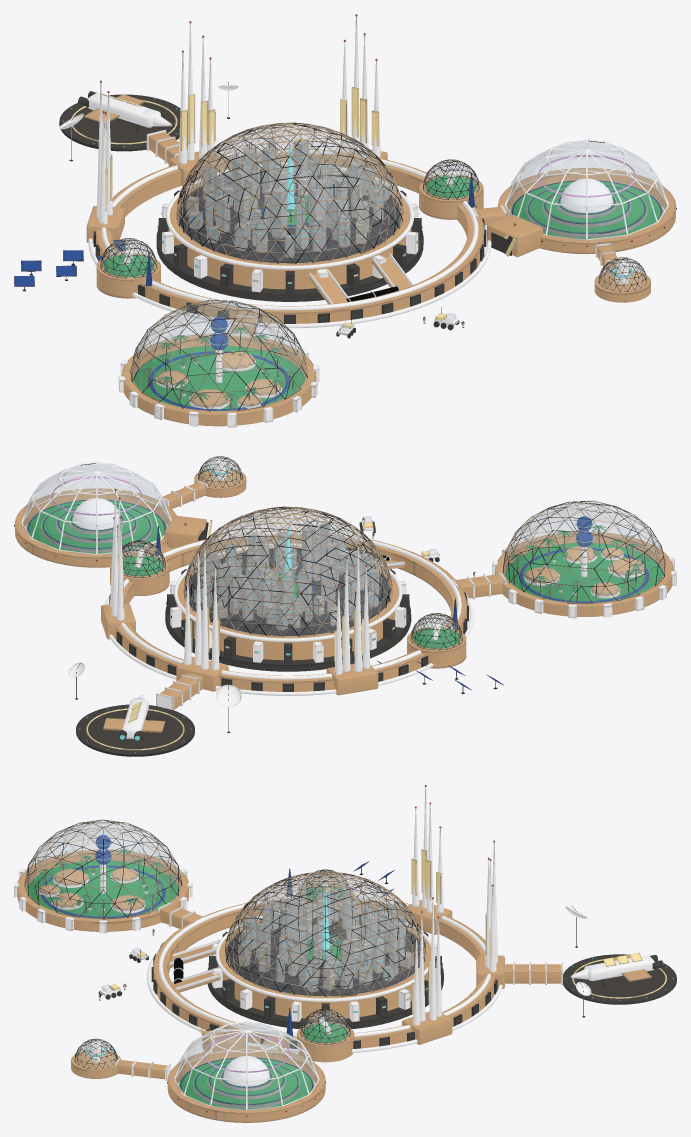
File: design_1.glb
The picture shows the model from 3 angles, top to bottom: view 1: azimuth 30°, elevation 25°; view 2: azimuth 150°, elevation 25°; view 3: azimuth 270°, elevation 25°; orthographic projection. The views are drawn at different scales.
Parts seen in each view (by area): view 1: 1_RICH_BAKED; view 2: 1_RICH_BAKED; view 3: 1_RICH_BAKED.
Part boxes in pixels (x1=…): 1_RICH_BAKED: x1=14, y1=14, x2=676, y2=427; 1_RICH_BAKED: x1=14, y1=456, x2=676, y2=756; 1_RICH_BAKED: x1=14, y1=785, x2=676, y2=1122.
Bounding box in the file's own units: 175 × 42.81 × 185.
Materials: 2 (1 with a texture image).
